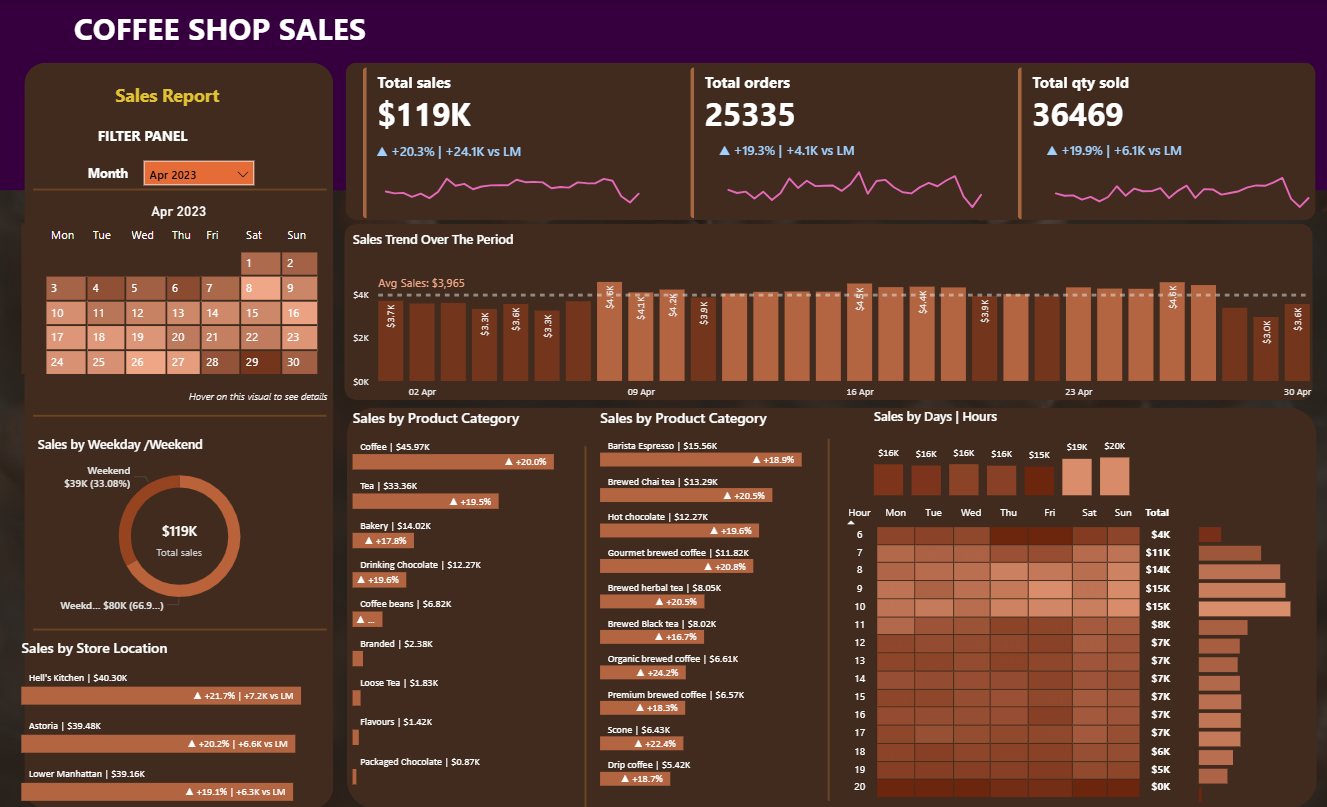

What the dashboard file says about the page in this screenshot:
{"tool":"powerbi","page":{"name":"Page 1","canvas":[1400,850],"ordinal":0},"visuals":[{"type":"shape","box":[0,0,1400,200],"z":0},{"type":"shape","box":[28.1,65.6,325,784.4],"z":1000},{"type":"shape","box":[365.6,65.6,1020,165.6],"z":2000},{"type":"textbox","box":[74.9,2.6,335.1,63.1],"z":3000},{"type":"cardVisual","fields":{"Data":["Transactions.Total sales"]},"box":[366.1,53.2,345.2,193.5],"z":4000,"group":"g1"},{"type":"cardVisual","fields":{"Data":["Transactions.Total qty sold"]},"box":[1055,53.6,345,194.1],"z":4000,"group":"g3"},{"type":"cardVisual","fields":{"Data":["Transactions.Total orders"]},"box":[711.1,54,345,193.6],"z":4000,"group":"g2"},{"type":"slicer","fields":{"Values":["Date Table.Month Year"]},"box":[148.5,164.3,126.2,35.5],"z":4000},{"type":"group","id":"g1","title":"Group 1","box":[366.1,53.2,345.2,193.5],"z":5000},{"type":"group","id":"g2","title":"Group 1","box":[711.1,54,345,193.6],"z":6000},{"type":"lineChart","fields":{"Category":["Date Table.Date.Variation.Date Hierarchy.Year","Date Table.Date.Variation.Date Hierarchy.Quarter","Date Table.Date.Variation.Date Hierarchy.Month","Date Table.Date.Variation.Date Hierarchy.Day"],"Y":["Transactions.Total qty sold"]},"box":[1096.7,148.4,295.7,84.3],"z":6000,"group":"g3"},{"type":"lineChart","fields":{"Category":["Date Table.Date.Variation.Date Hierarchy.Year","Date Table.Date.Variation.Date Hierarchy.Quarter","Date Table.Date.Variation.Date Hierarchy.Month","Date Table.Date.Variation.Date Hierarchy.Day"],"Y":["Transactions.Total orders"]},"box":[752.8,148.6,295.7,84],"z":6000,"group":"g2"},{"type":"lineChart","fields":{"Y":["Transactions.Total sales"],"Category":["Date Table.Date.Variation.Date Hierarchy.Year","Date Table.Date.Variation.Date Hierarchy.Quarter","Date Table.Date.Variation.Date Hierarchy.Month","Date Table.Date.Variation.Date Hierarchy.Day"]},"box":[392.4,149.2,295.9,84],"z":6000,"group":"g1"},{"type":"group","id":"g3","title":"Group 1","box":[1055,53.6,345,194.1],"z":7000},{"type":"pivotTable","fields":{"Rows":["Date Table.Week number"],"Columns":["Date Table.Day name"],"Values":["Min(Date Table.Day number)"]},"box":[19.7,230,324.6,189.2],"z":8000},{"type":"card","fields":{"Values":["Min(Date Table.Month Year)"]},"box":[130.4,208.6,120.2,29],"z":9000},{"type":"card","fields":{"Values":["Transactions.Foot note"]},"box":[169.5,401.2,208.6,36.2],"z":10000},{"type":"shape","box":[36.2,428.8,308.5,17.4],"z":11000},{"type":"shape","box":[36.2,191.2,308.5,17.4],"z":12000},{"type":"donutChart","title":" Sales by Weekday /Weekend","fields":{"Category":["Date Table.Weekday /weekend"],"Y":["Transactions.Total sales"]},"box":[38.1,445.5,307.5,212.9],"z":13000},{"type":"card","fields":{"Values":["Transactions.Total sales"]},"box":[137.6,541.8,105.7,50.7],"z":14000},{"type":"shape","box":[36.2,653.3,308.5,17.4],"z":15000},{"type":"clusteredBarChart","title":"Sales by Store Location","fields":{"Category":["Transactions.store_location"],"Y":["Transactions.Placeholder","Transactions.Total sales"]},"box":[20.3,670.7,331.7,179.6],"z":16000},{"type":"shape","box":[363.6,234.7,1018.3,185.4],"z":17000},{"type":"columnChart","title":"Sales Trend Over The Period","fields":{"Category":["Transactions.transaction_date"],"Y":["Transactions.Total sales"]},"box":[367.9,241.9,1018.3,186.9],"z":18000},{"type":"shape","box":[366.5,428.8,1019.8,421.5],"z":19000},{"type":"clusteredBarChart","title":"Sales by Product Category","fields":{"Y":["Transactions.Placeholder","Transactions.Total sales"],"Category":["Transactions.product_category"]},"box":[368,428.4,249.7,402.1],"z":20000},{"type":"shape","box":[863.7,461.7,19.9,380.7],"z":21000},{"type":"clusteredBarChart","title":"Sales by Products (Top 10)","fields":{"Y":["Transactions.Placeholder","Transactions.Total sales"],"Category":["Transactions.product_type"]},"box":[628.2,428.4,249.7,403.4],"z":22000},{"type":"shape","box":[608.4,469.3,18.3,380.7],"z":23000},{"type":"pivotTable","fields":{"Rows":["Transactions.Hour"],"Columns":["Date Table.Day name"],"Values":["Transactions.Total sales"]},"box":[883.6,527.3,366.5,323],"z":24000},{"type":"barChart","fields":{"Category":["Transactions.Hour"],"Y":["Transactions.Total sales"]},"box":[1244.5,500.7,147.2,348.3],"z":25000},{"type":"columnChart","title":"Sales by Days | Hours","fields":{"Y":["Transactions.Total sales"],"Category":["Date Table.Day name"]},"box":[916,428.4,287.8,98.6],"z":26000},{"type":"textbox","box":[89.4,168.2,59.1,30.2],"z":27000},{"type":"textbox","box":[118.3,82.8,155.1,53.9],"z":28000},{"type":"textbox","box":[99.9,127.5,143.2,36.8],"z":29000}]}

Visuals, with their boxes in screenshot pixels (x1, y1, x2, y2), scaled from the page's 1400x850 canvas onto the 1327x807 screenshot:
shape: 0/0/1326/190
shape: 27/62/335/806
shape: 347/62/1313/220
textbox: 71/2/389/62
cardVisual - Transactions.Total sales: 347/51/674/234
cardVisual - Transactions.Total qty sold: 1000/51/1326/235
cardVisual - Transactions.Total orders: 674/51/1001/235
slicer - Date Table.Month Year: 141/156/260/190
"Group 1" group: 347/51/674/234
"Group 1" group: 674/51/1001/235
lineChart - Date Table.Date.Variation.Date Hierarchy.Year x Date Table.Date.Variation.Date Hierarchy.Quarter: 1040/141/1320/221
lineChart - Date Table.Date.Variation.Date Hierarchy.Year x Date Table.Date.Variation.Date Hierarchy.Quarter: 714/141/994/221
lineChart - Transactions.Total sales x Date Table.Date.Variation.Date Hierarchy.Year: 372/142/652/221
"Group 1" group: 1000/51/1326/235
pivotTable - Date Table.Week number x Date Table.Day name: 19/218/326/398
card - Min(Date Table.Month Year): 124/198/238/226
card - Transactions.Foot note: 161/381/358/415
shape: 34/407/327/424
shape: 34/182/327/198
" Sales by Weekday /Weekend" donutChart: 36/423/328/625
card - Transactions.Total sales: 130/514/231/563
shape: 34/620/327/637
"Sales by Store Location" clusteredBarChart: 19/637/334/806
shape: 345/223/1310/399
"Sales Trend Over The Period" columnChart: 349/230/1314/407
shape: 347/407/1314/806
"Sales by Product Category" clusteredBarChart: 349/407/585/788
shape: 819/438/838/800
"Sales by Products (Top 10)" clusteredBarChart: 595/407/832/790
shape: 577/446/594/806
pivotTable - Transactions.Hour x Date Table.Day name: 838/501/1185/806
barChart - Transactions.Hour x Transactions.Total sales: 1180/475/1319/806
"Sales by Days | Hours" columnChart: 868/407/1141/500
textbox: 85/160/141/188
textbox: 112/79/259/130
textbox: 95/121/230/156
